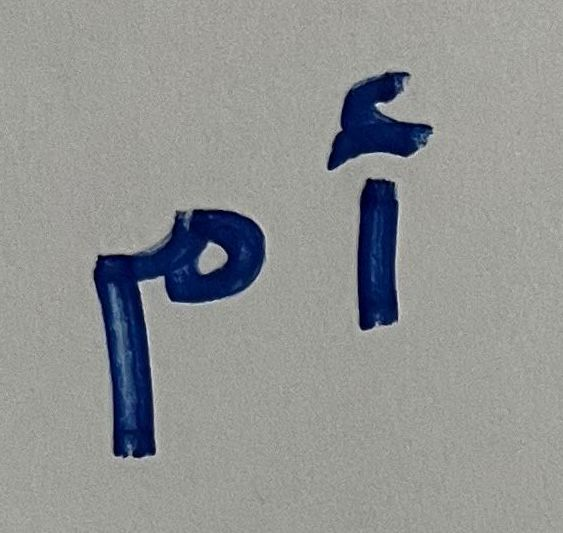hamza: (293, 43, 472, 376)
meem: (56, 162, 283, 492)
